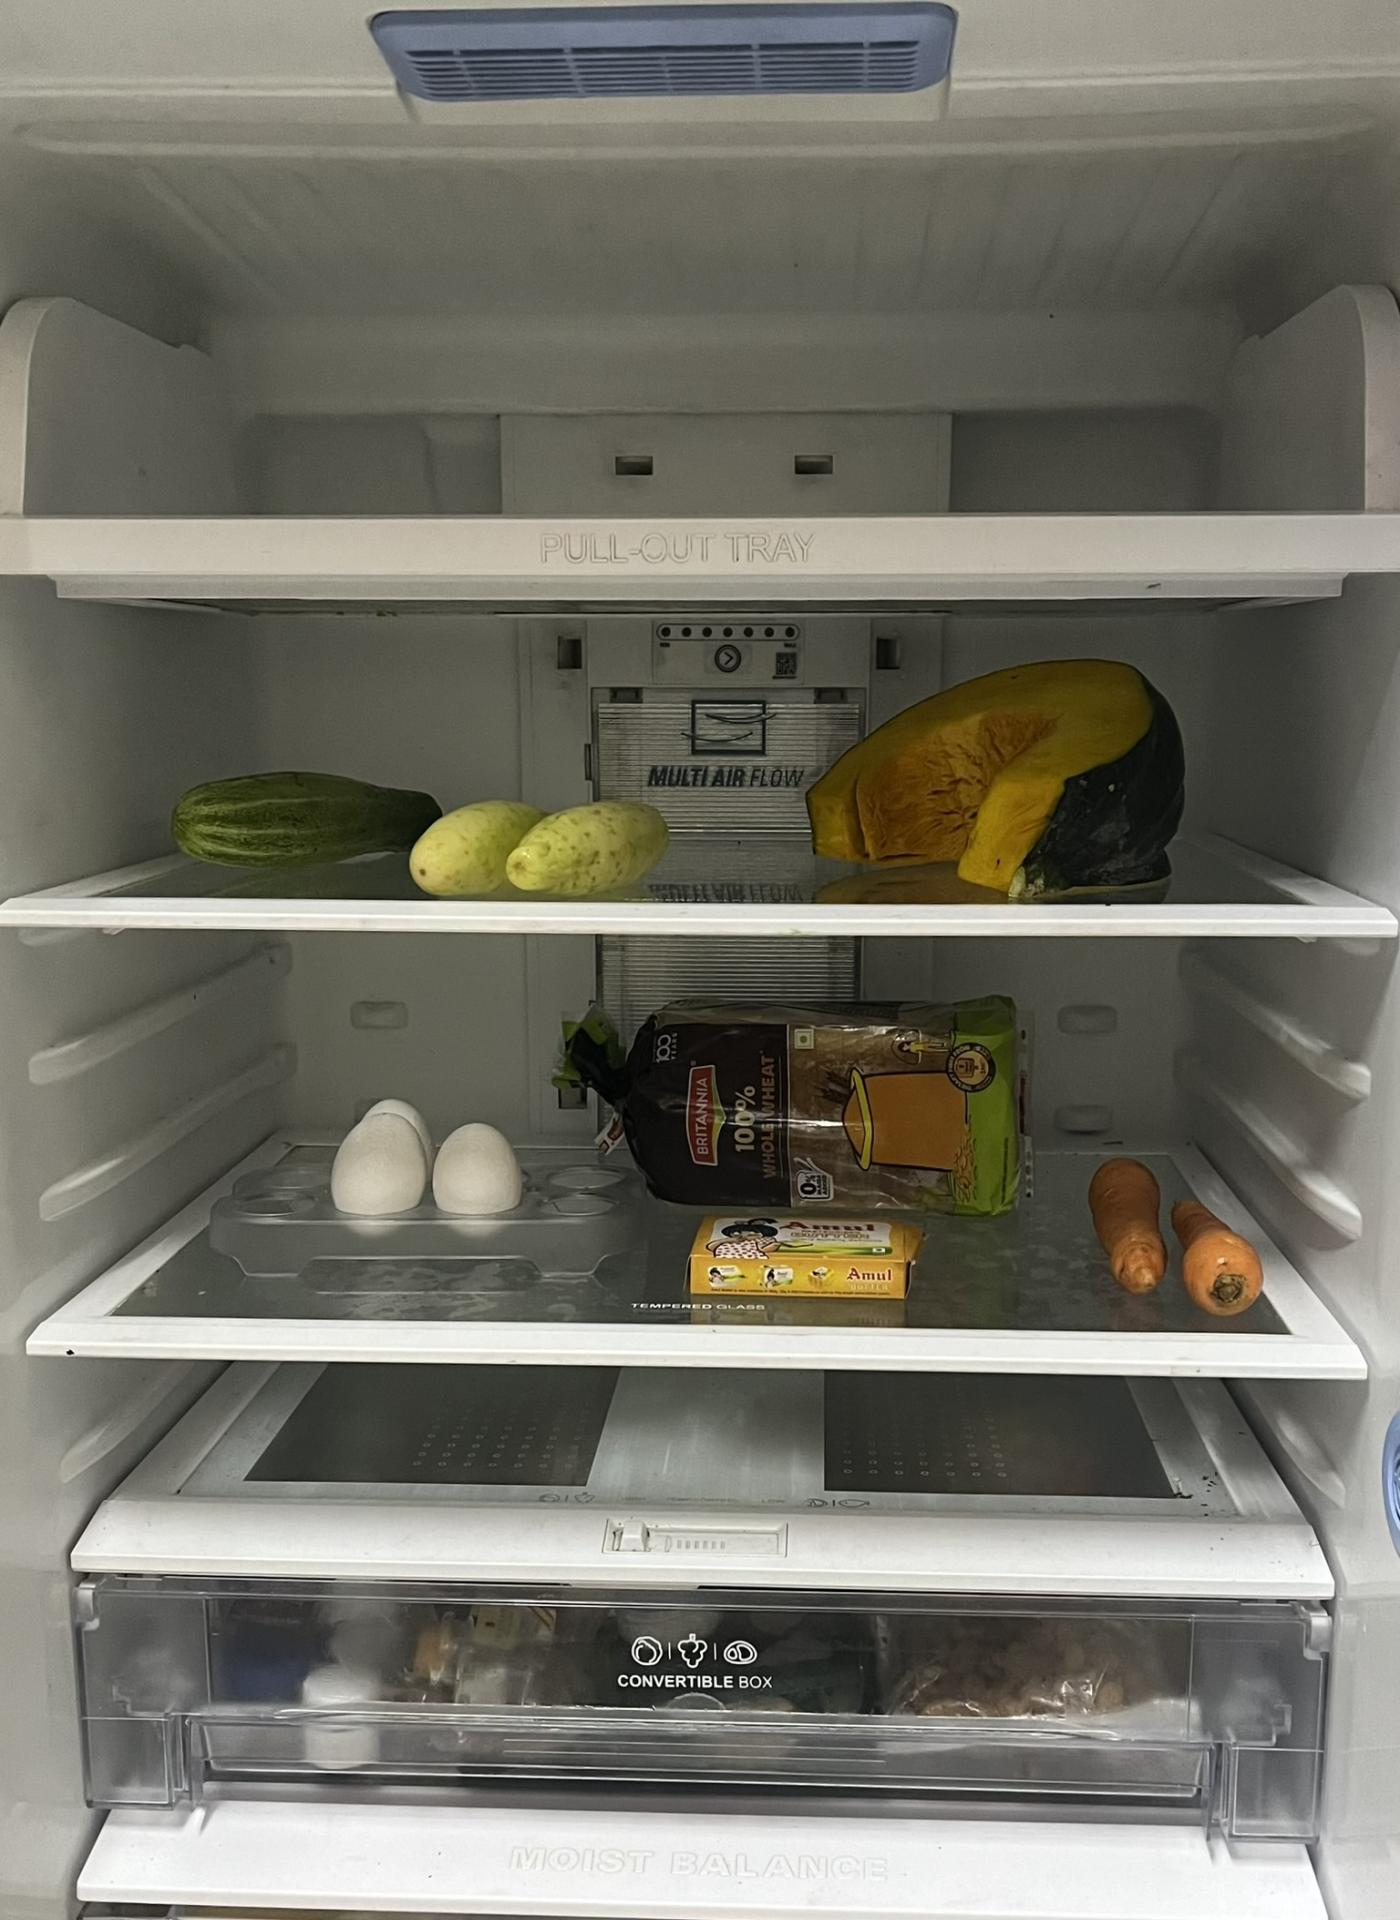bread: (580, 984, 1033, 1219)
butter: (686, 1209, 920, 1291)
carrots: (1093, 1143, 1160, 1300)
cucumber: (155, 772, 434, 862), (410, 800, 659, 900)
egg: (328, 1085, 425, 1234), (431, 1100, 528, 1222)
pumpkin: (796, 653, 1179, 894)
